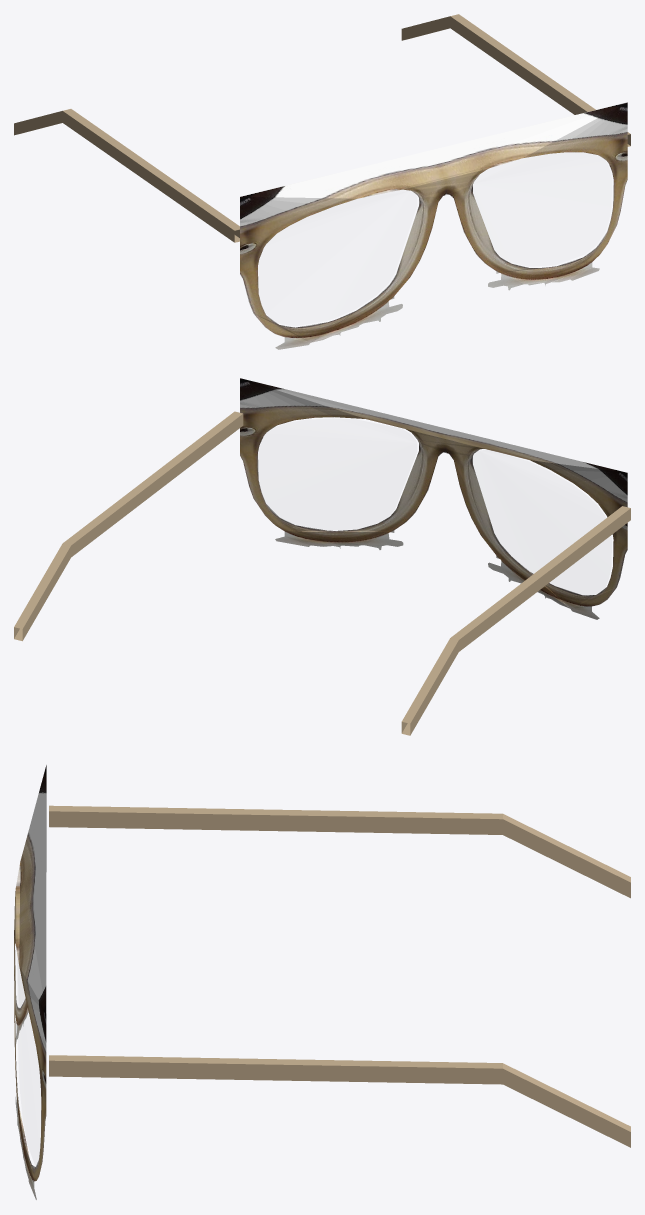
The model's file is gothamstyle-matte-253_matte-tan.glb.
3 views of the same model, one above another, from view 1: azimuth 30°, elevation 25°; view 2: azimuth 150°, elevation 25°; view 3: azimuth 270°, elevation 25° (orthographic). The views are drawn at different scales.
Parts seen in each view (by area): view 1: frame_front, temple_viewer_left, temple_viewer_right; view 2: frame_front, temple_viewer_left, temple_viewer_right; view 3: temple_viewer_right, temple_viewer_left, frame_front.
Part boxes in pixels (left/top/right/bottom): frame_front: left=240, top=102, right=627, bottom=349; temple_viewer_left: left=14, top=109, right=239, bottom=242; temple_viewer_right: left=401, top=14, right=630, bottom=146; frame_front: left=240, top=378, right=627, bottom=619; temple_viewer_left: left=401, top=506, right=630, bottom=735; temple_viewer_right: left=14, top=411, right=243, bottom=641; temple_viewer_right: left=49, top=1055, right=630, bottom=1147; temple_viewer_left: left=49, top=805, right=630, bottom=898; frame_front: left=14, top=765, right=46, bottom=1199.
Bounding box in the file's own units: 0.1379 × 0.0527 × 0.141.
Materials: 3 (2 with a texture image).
